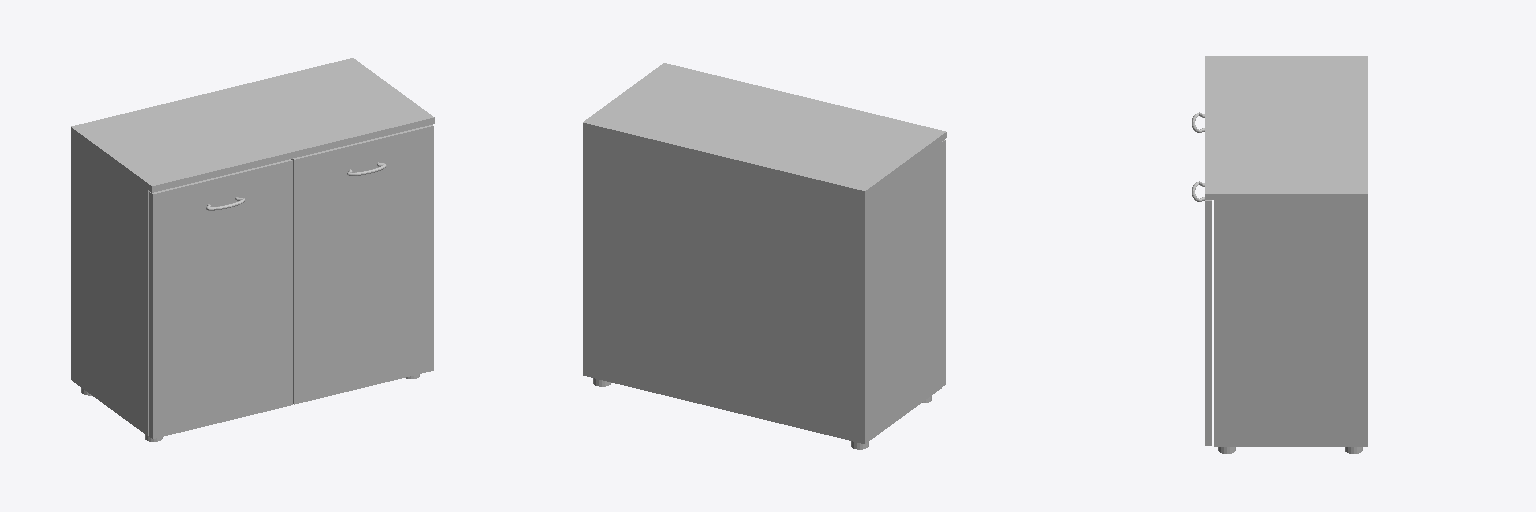
Rendered from coffre .obj.
The picture shows the model from 3 angles: view 1: azimuth 30°, elevation 25°; view 2: azimuth 150°, elevation 25°; view 3: azimuth 270°, elevation 25°; orthographic projection.
Parts seen in each view (by area): view 1: mobile9080W.001; view 2: mobile9080W.001; view 3: mobile9080W.001.
Boxes of the visible parts, x1,y1,x2,y2 form: mobile9080W.001: [71, 58, 434, 441]; mobile9080W.001: [583, 63, 946, 449]; mobile9080W.001: [1192, 56, 1367, 453].
Size of the model in its own units: 29.99 by 26.66 by 16.24.